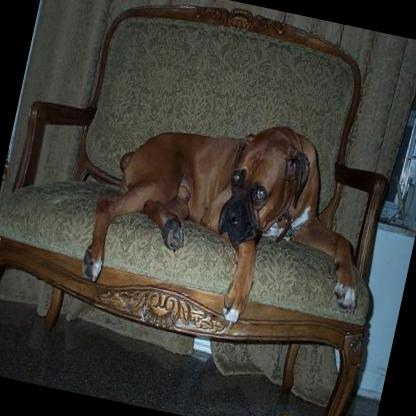boxer: (70, 84, 391, 356)
